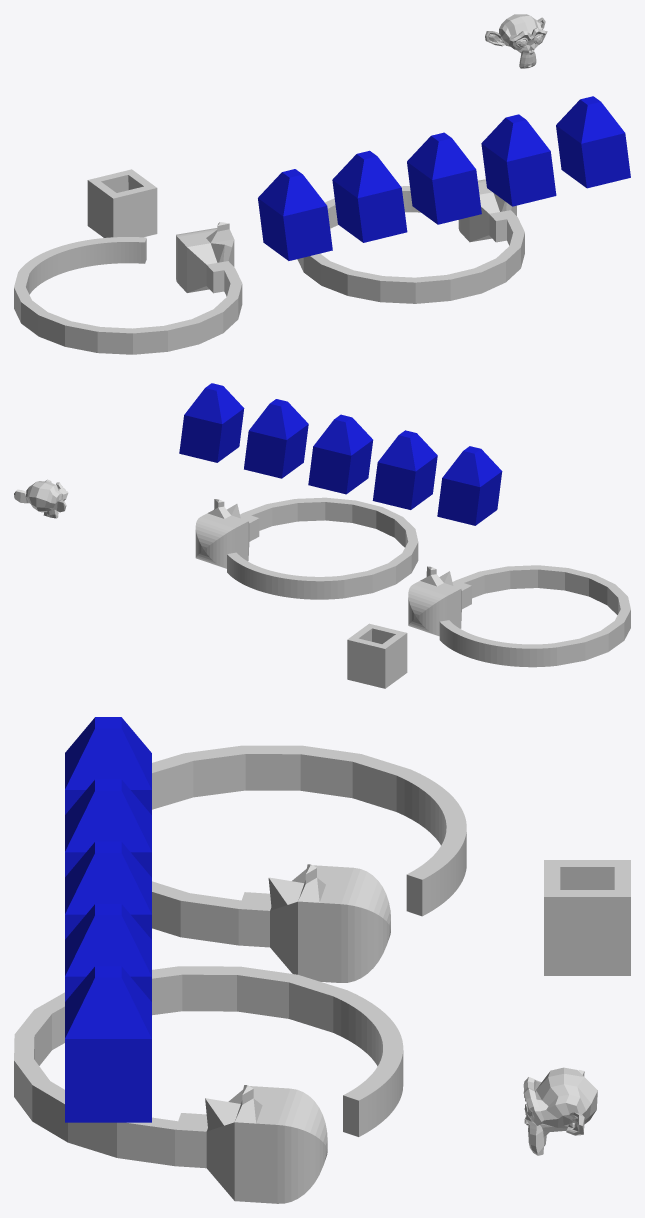
File: my first model.glb
3 renders of one model, top to bottom at view 1: azimuth 30°, elevation 25°; view 2: azimuth 150°, elevation 25°; view 3: azimuth 270°, elevation 25°, orthographic. The views are drawn at different scales.
Parts seen in each view (by area): view 1: Cube.002, Cube, Cube.001, Cube.003, Suzanne; view 2: Cube.002, Cube.001, Cube, Cube.003, Suzanne; view 3: Cube.001, Cube, Cube.002, Cube.003, Suzanne.
Boxes of the visible parts, <box> form: Cube.002: <box>258,96,630,260</box>; Cube: <box>14,222,242,354</box>; Cube.001: <box>297,179,524,303</box>; Cube.003: <box>87,169,157,237</box>; Suzanne: <box>485,14,547,68</box>; Cube.002: <box>179,383,502,525</box>; Cube.001: <box>195,497,418,599</box>; Cube: <box>408,565,630,667</box>; Cube.003: <box>347,623,407,688</box>; Suzanne: <box>14,479,68,518</box>; Cube.001: <box>14,966,403,1203</box>; Cube: <box>152,745,466,982</box>; Cube.002: <box>65,717,151,1122</box>; Cube.003: <box>544,860,630,975</box>; Suzanne: <box>523,1067,597,1155</box>.
Bounding box in the file's own units: 27.51 × 6.59 × 14.17.
